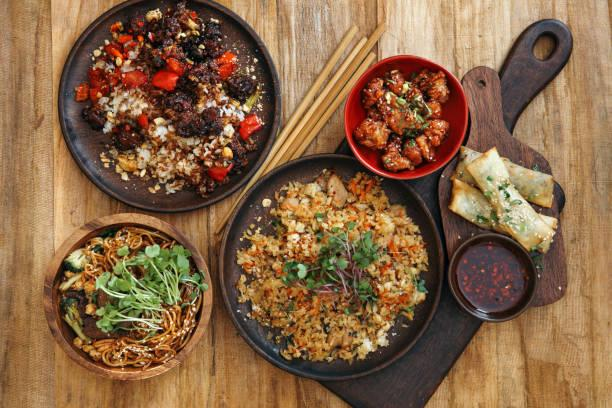Braised Crucian Carp: (218, 154, 440, 379), (56, 1, 274, 213), (41, 215, 208, 381), (342, 53, 466, 179), (444, 147, 562, 249)
